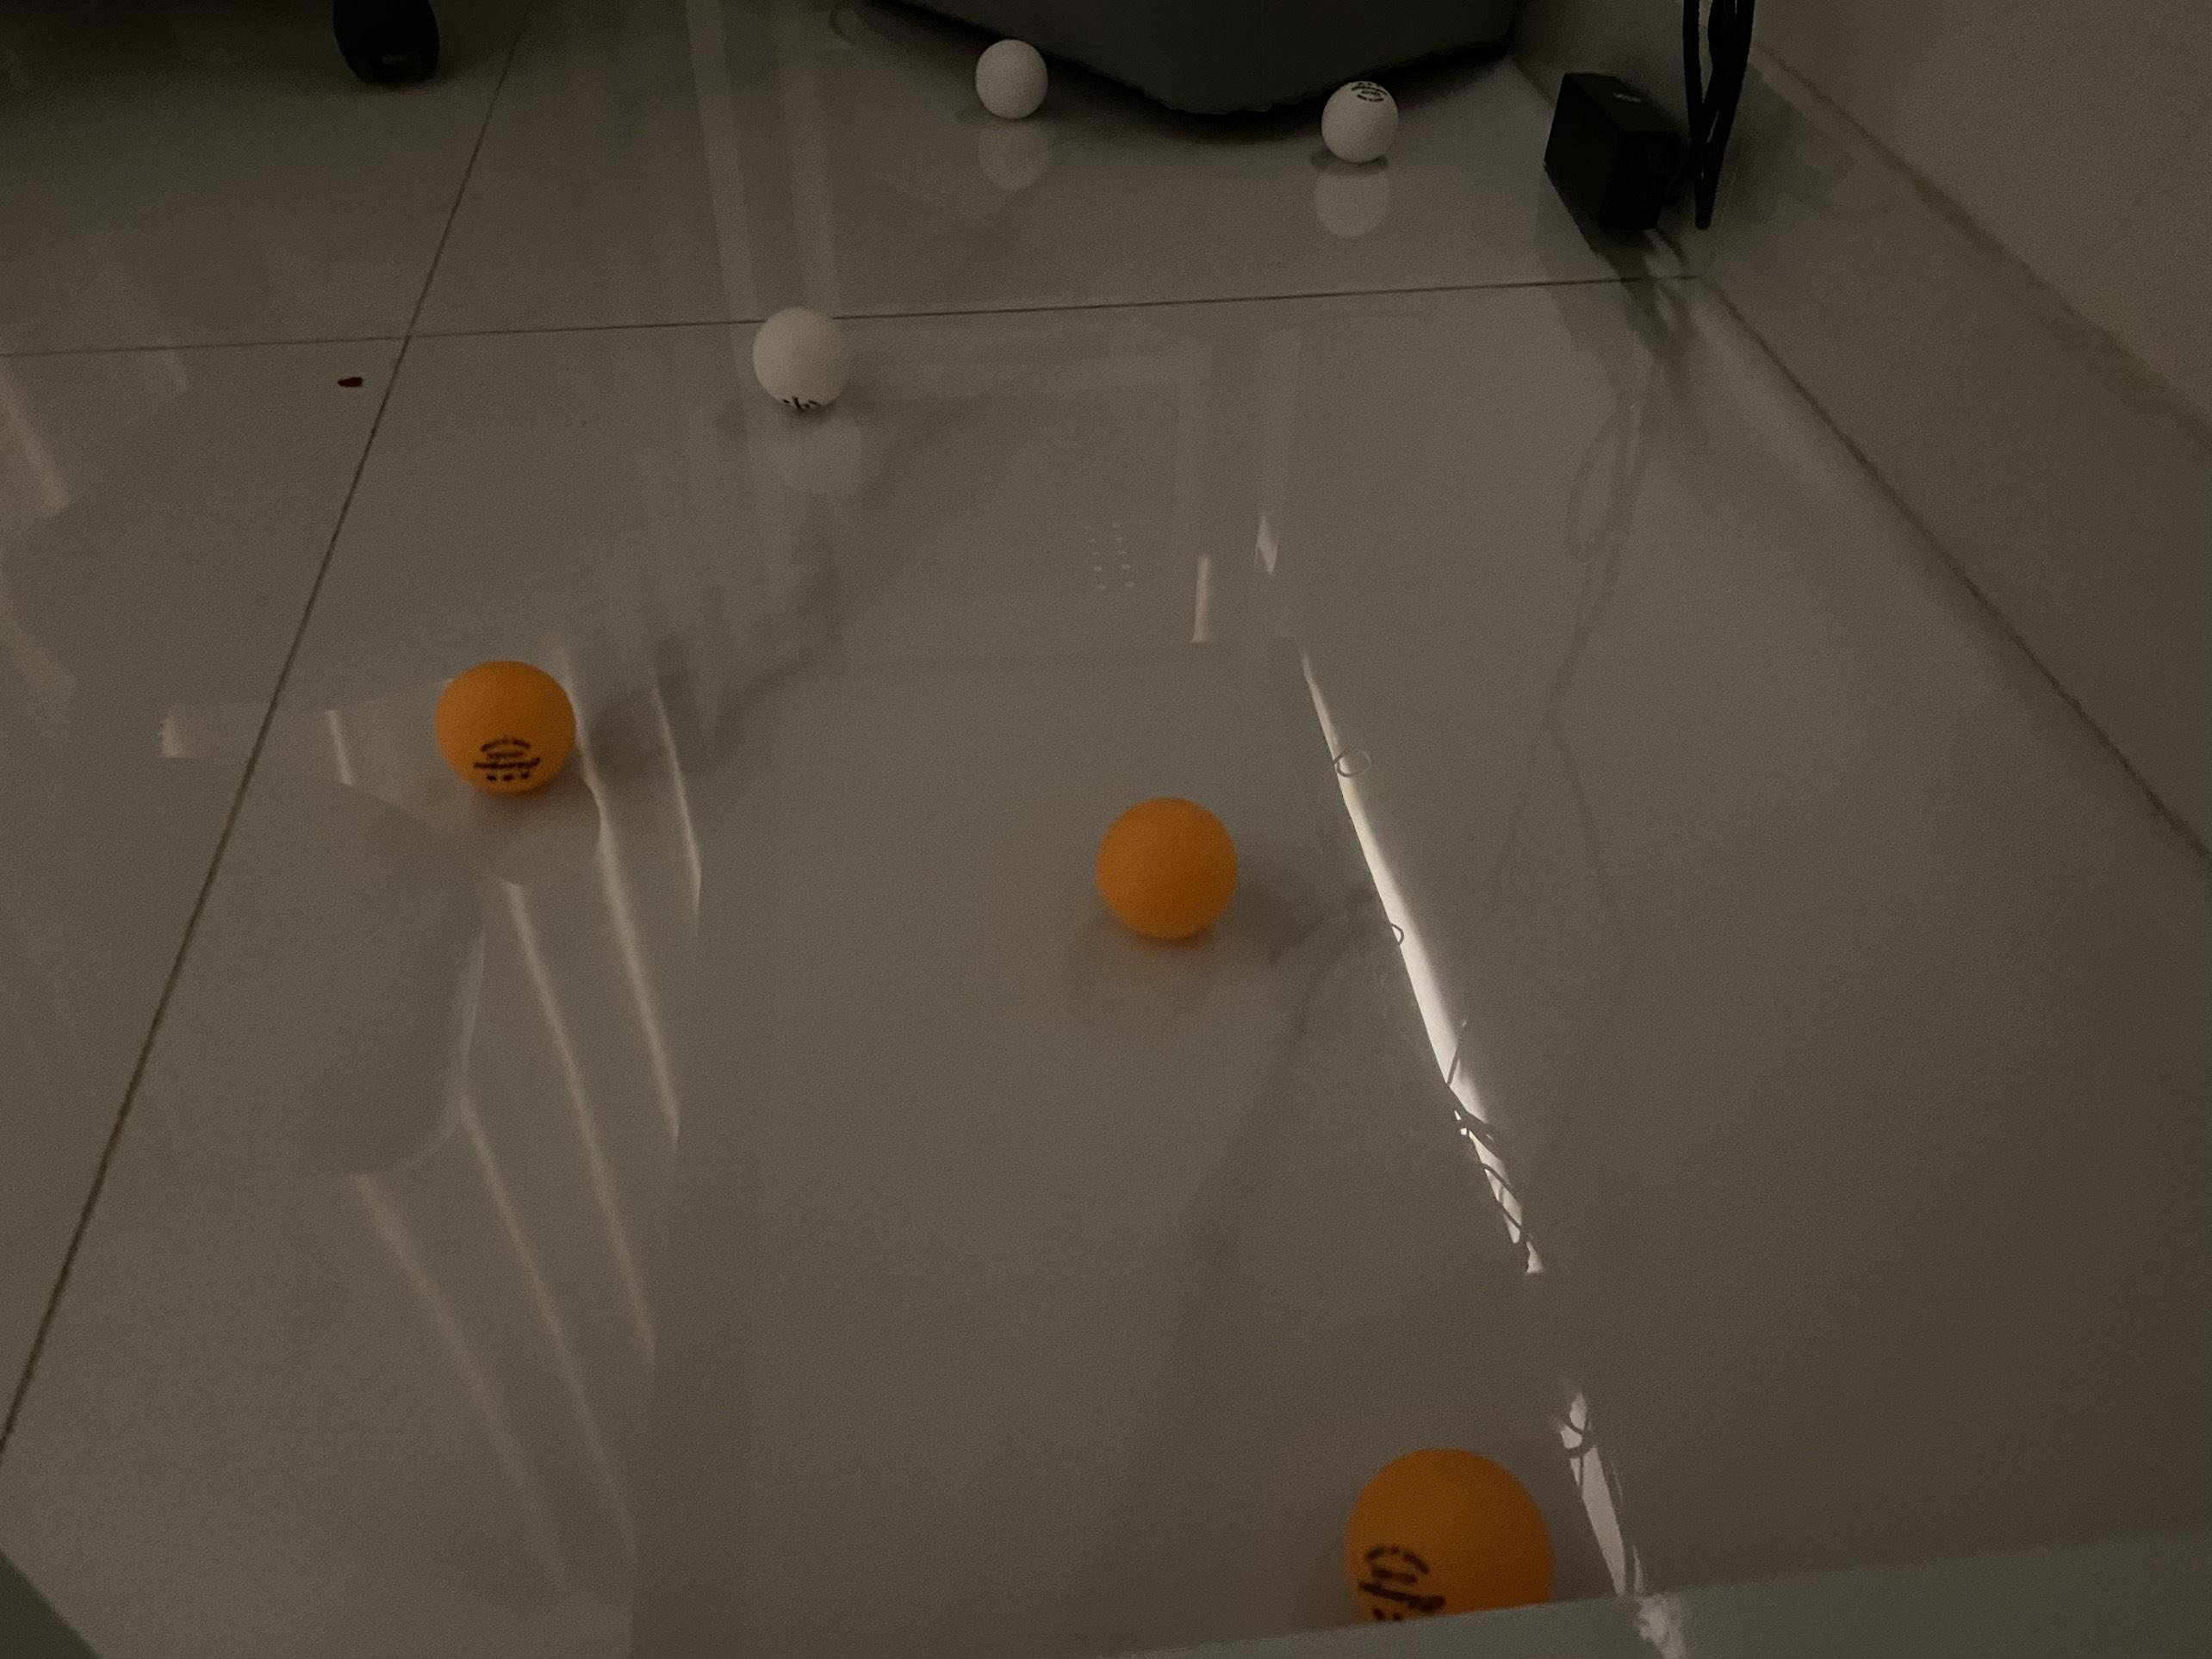oball: (1348, 1452, 1557, 1647), (1094, 796, 1238, 938), (430, 659, 575, 796)
